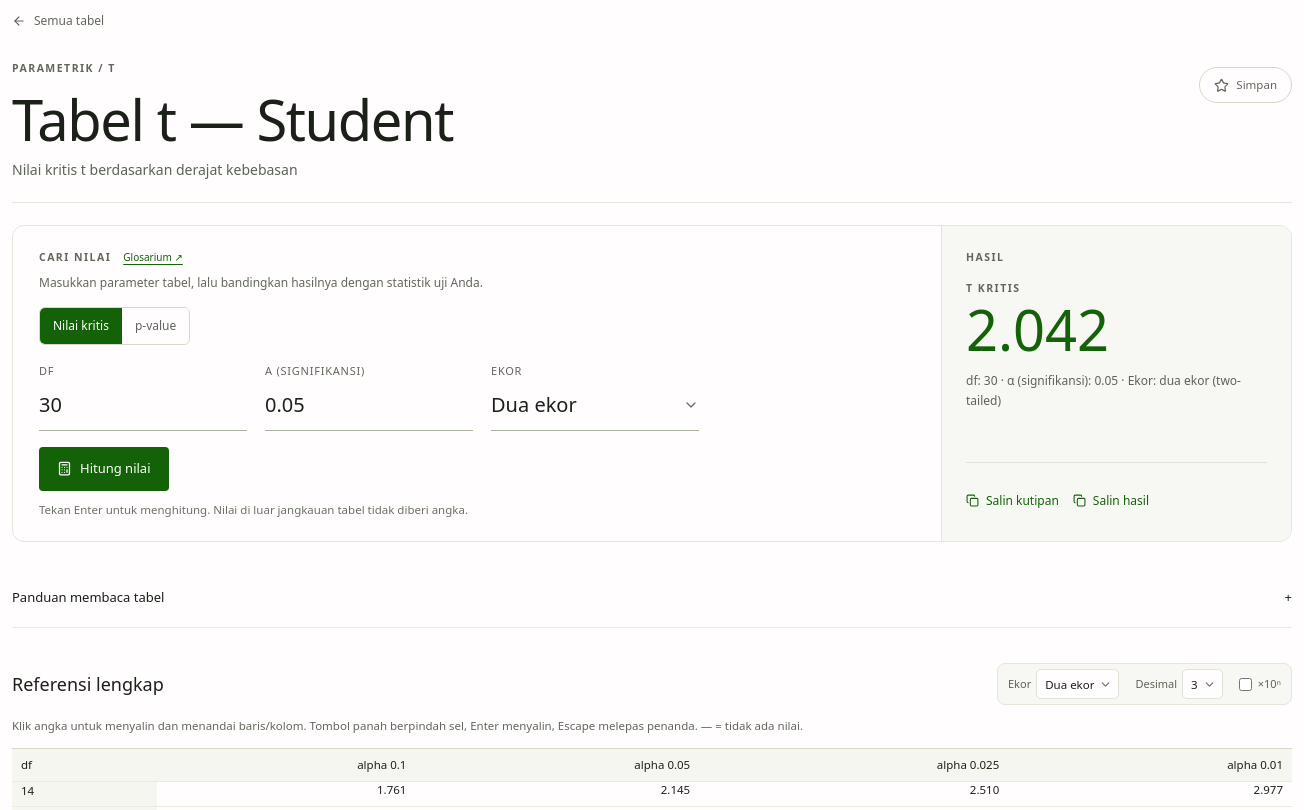
Scenario: deep link t menampilkan nilai dan input rusak menampilkan error
(page scrolled)
Expected: the text "2.042" is shown, [966,297,1109,361]
Clear the field labelled "df" at (143, 405), box [39,380,247,431]
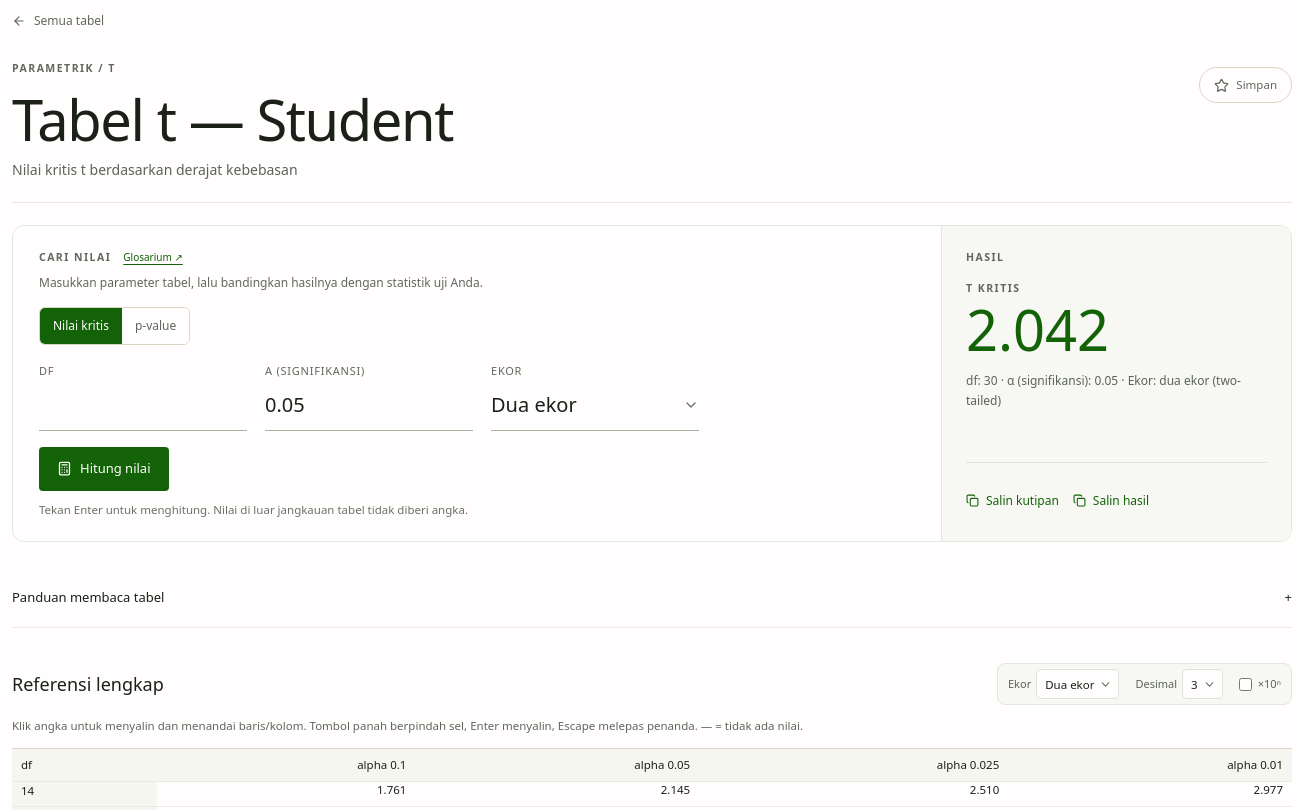
Click the button "Hitung nilai" at (104, 469), box [39,447,168,491]
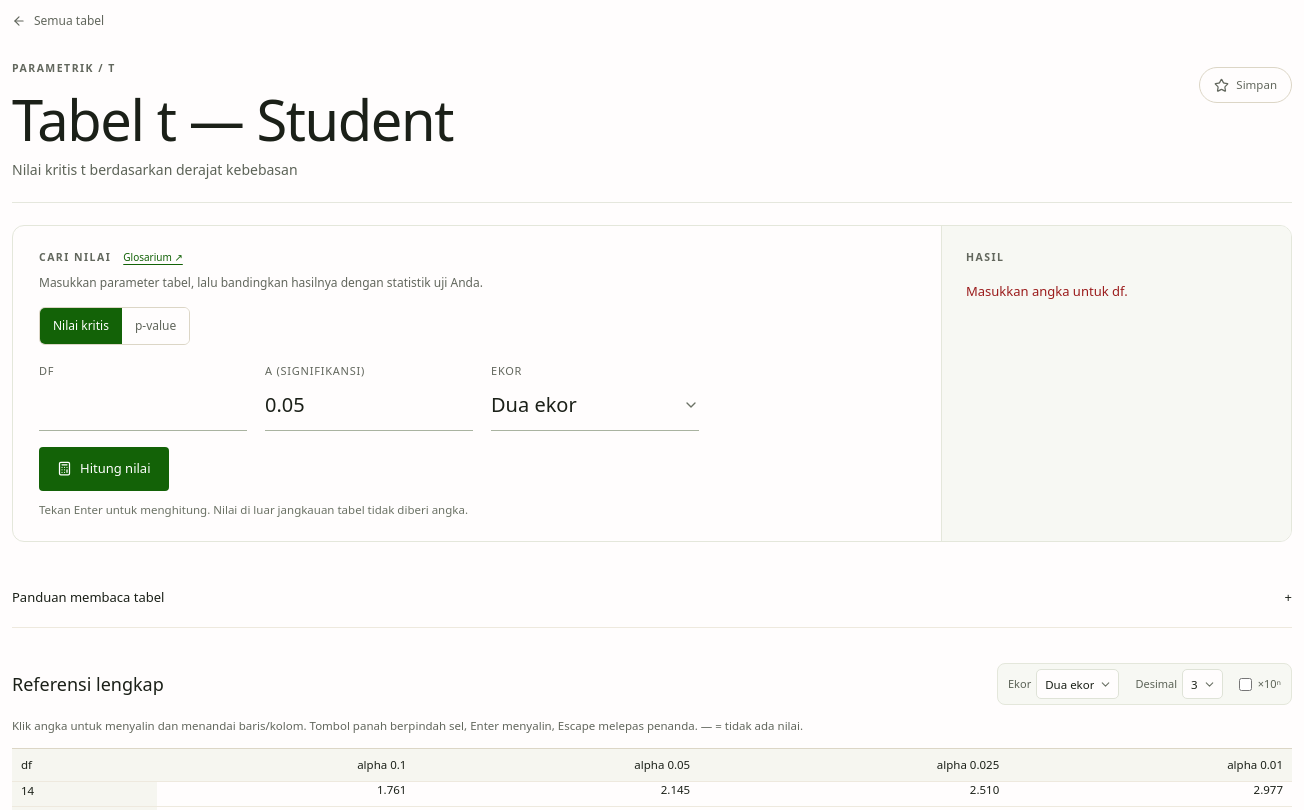
Expected: the text "2.042" is not shown
Now the message shows "angka", box [966,282,1128,300]
